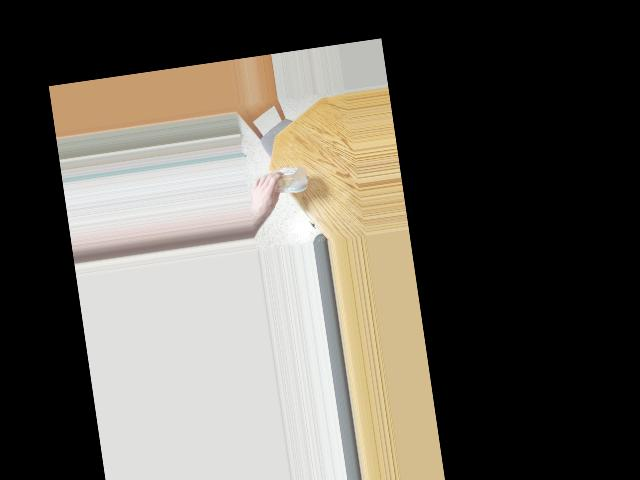cheese: (266, 155, 311, 212)
